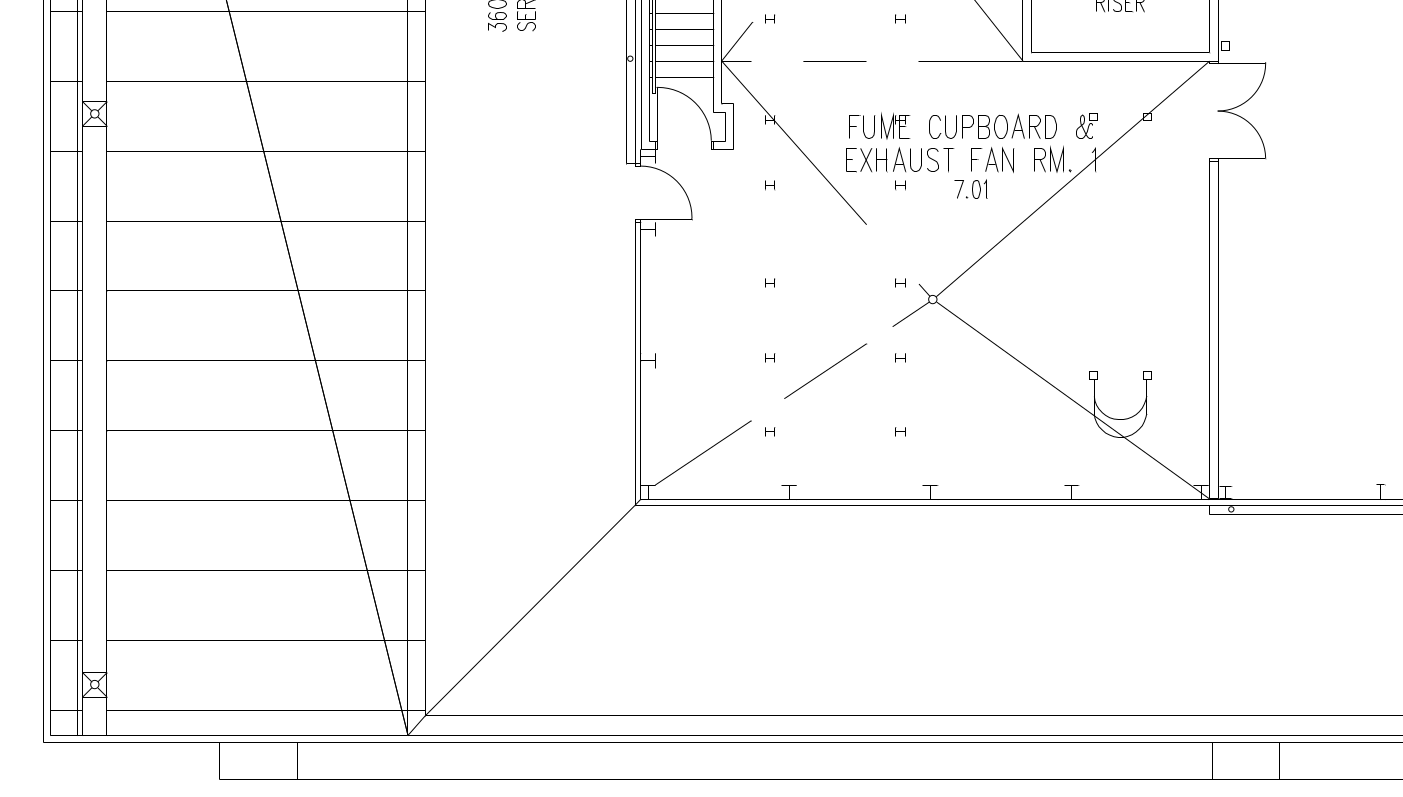door: (632, 162, 702, 226), (654, 84, 713, 151), (1209, 61, 1270, 112), (1210, 111, 1271, 162)
